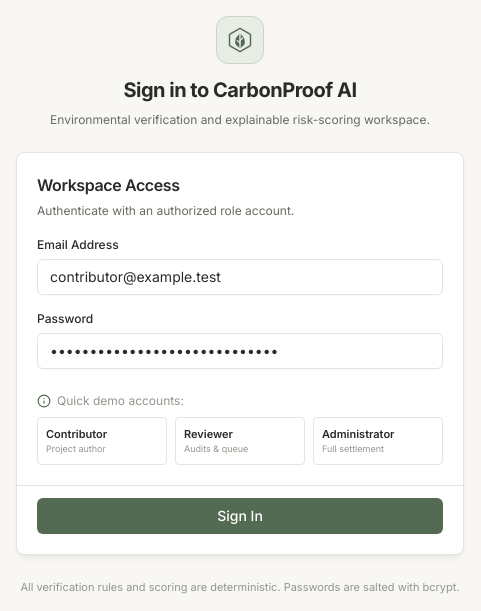
Test: Feature Pages & Workflows › renders Login Page with demo quick-select role buttons
Expected: the heading "Sign in to CarbonProof AI" is shown, [123, 78, 357, 102]
Expected: the text "Quick demo accounts:" is shown, [57, 392, 184, 408]
# Clicking demo chip fills the email and password inputs
Click the button "Reviewer Audits & queue" at (240, 440), box [175, 416, 305, 464]
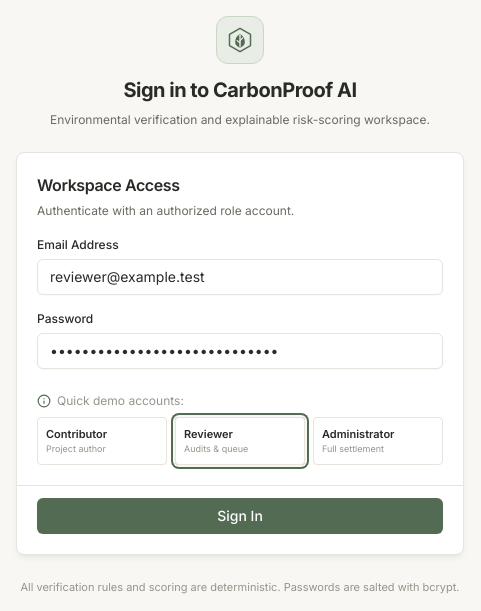
Expected: the field labelled "Email Address" holds "reviewer@example.test", [37, 258, 443, 294]
